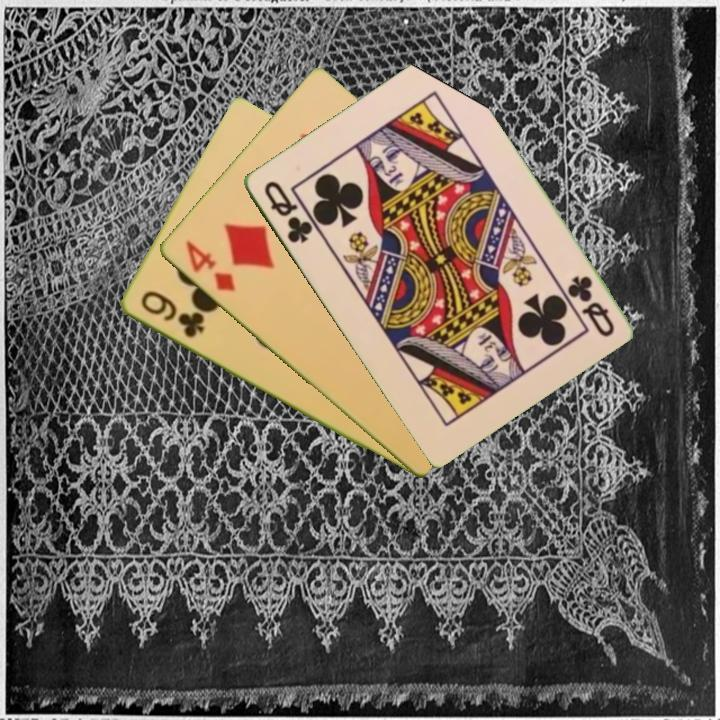4d: (181, 236, 238, 295)
9c: (136, 287, 207, 341)
Qc: (259, 177, 316, 246), (563, 271, 617, 340)
